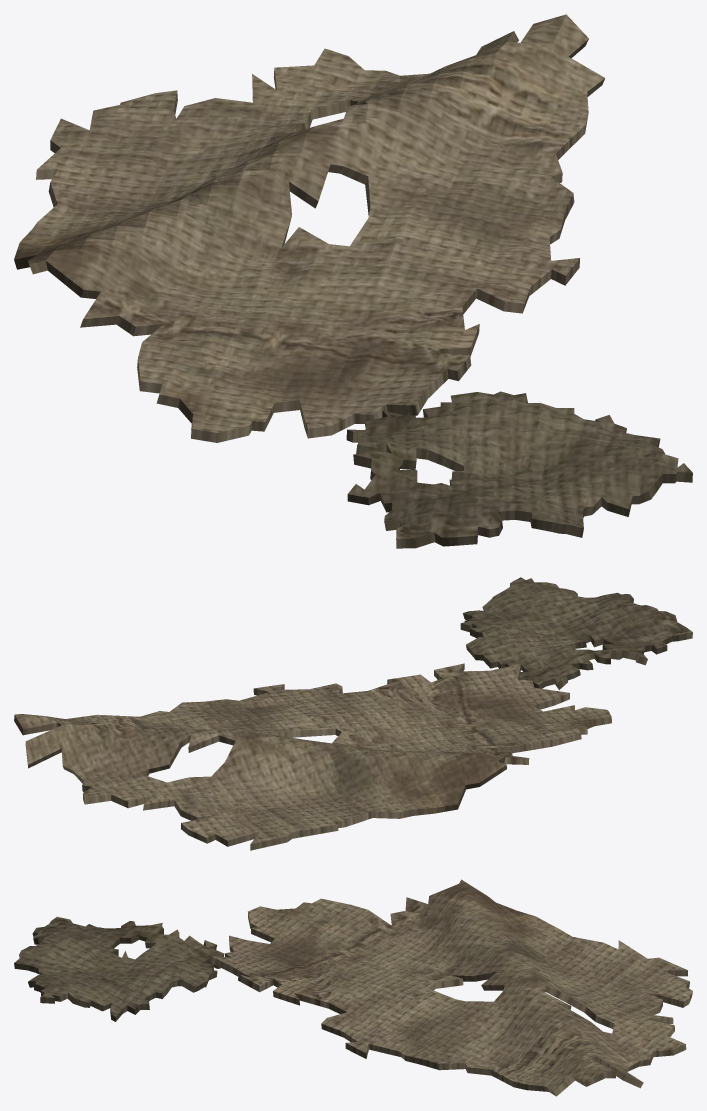
Rendered from junk_rags_e.glb.
The picture shows the model from 3 angles, top to bottom: view 1: azimuth 30°, elevation 25°; view 2: azimuth 150°, elevation 25°; view 3: azimuth 270°, elevation 25°; orthographic projection. The views are drawn at different scales.
Parts seen in each view (by area): view 1: model; view 2: model; view 3: model.
Part boxes in pixels (x1,y1,x2,y2): model: (14,14,692,548); model: (14,577,692,850); model: (14,879,692,1096).
Size of the model in its own units: 0.4225 by 0.0414 by 0.6107.
Materials: 2 (2 with a texture image).
